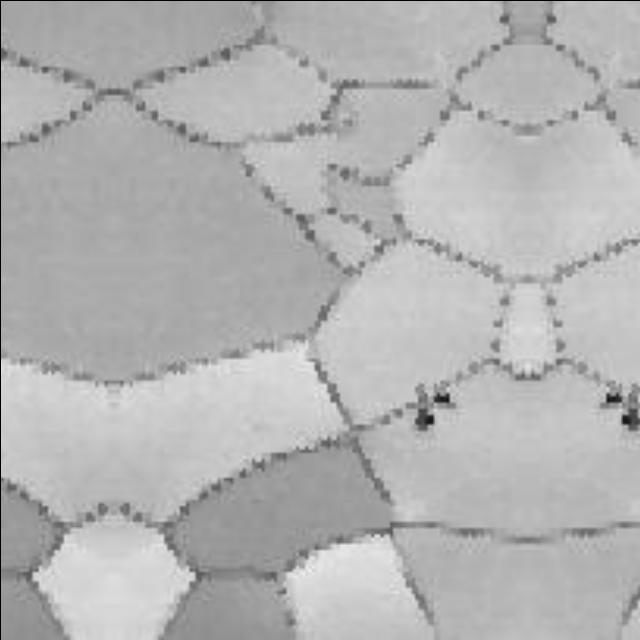good_void: (413, 404, 433, 432), (620, 404, 639, 432), (431, 390, 451, 404), (602, 390, 621, 404)
